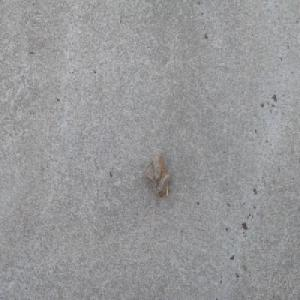Rock: (140, 149, 169, 199)
